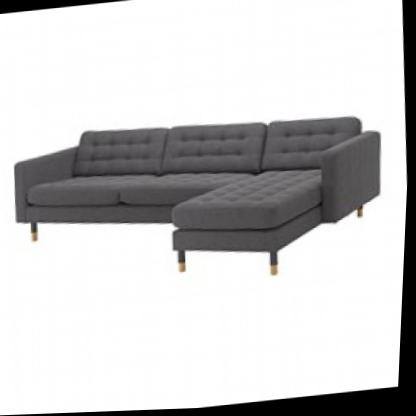Sofa: (1, 75, 397, 312)
